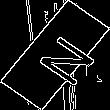N_NW: (19, 24, 91, 86)
